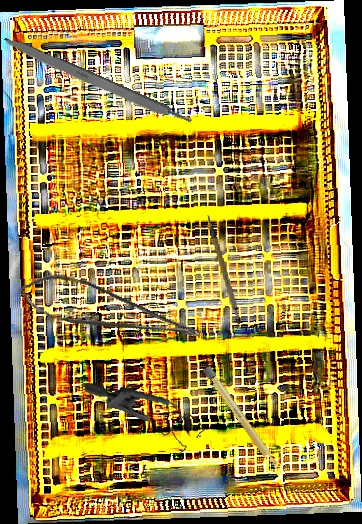Micro Scissor: (13, 259, 205, 371)
Scalpel Handle: (0, 34, 194, 130), (201, 363, 282, 474), (206, 212, 244, 326)
Speculum: (84, 371, 207, 464)
